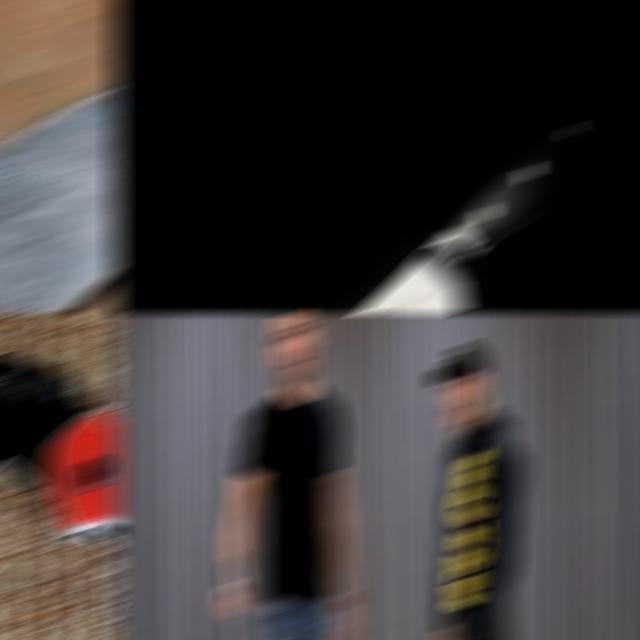Knife: (0, 89, 120, 312)
Knife_Handle: (200, 187, 502, 312), (217, 554, 249, 616)
